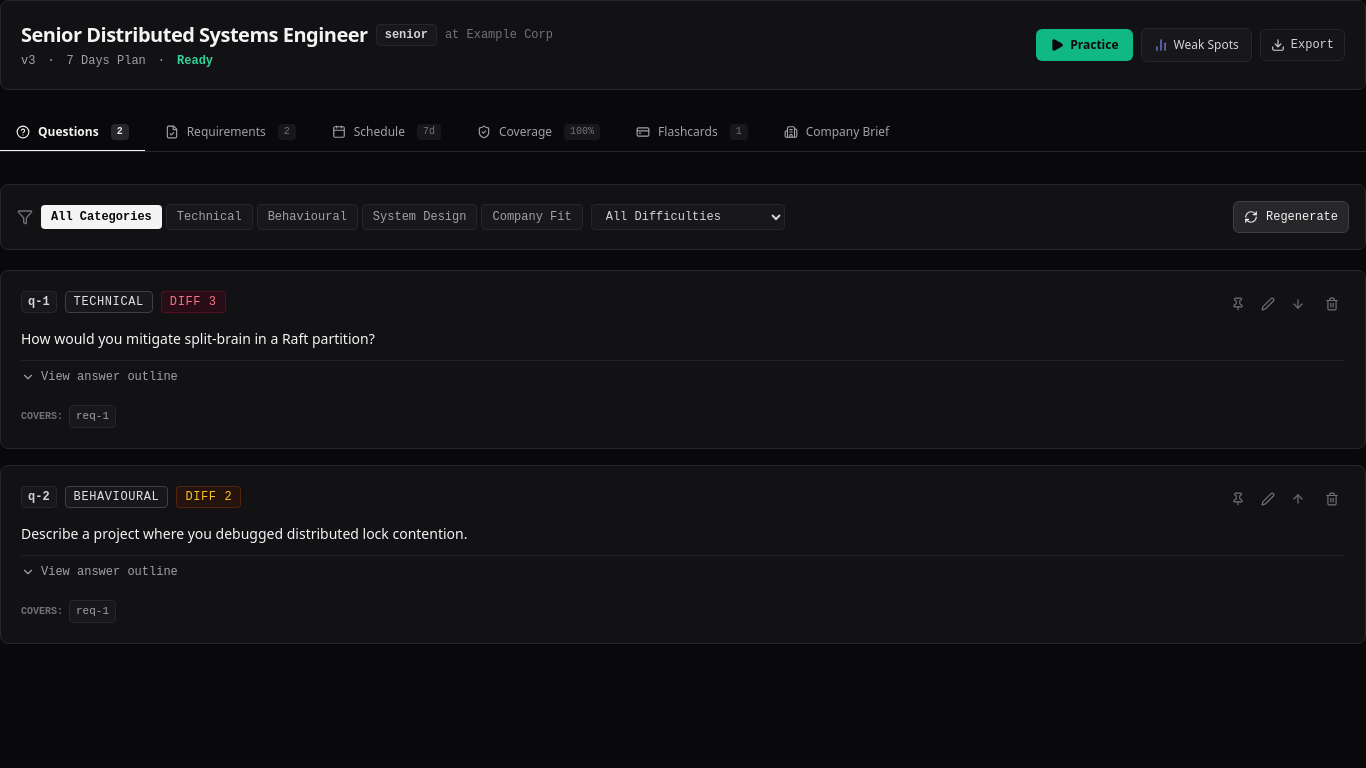
Test case: KitViewer › opens and closes canonical Appendix A export modal
Click the button "Export".
click(1302, 45)  # box [1260, 29, 1345, 61]
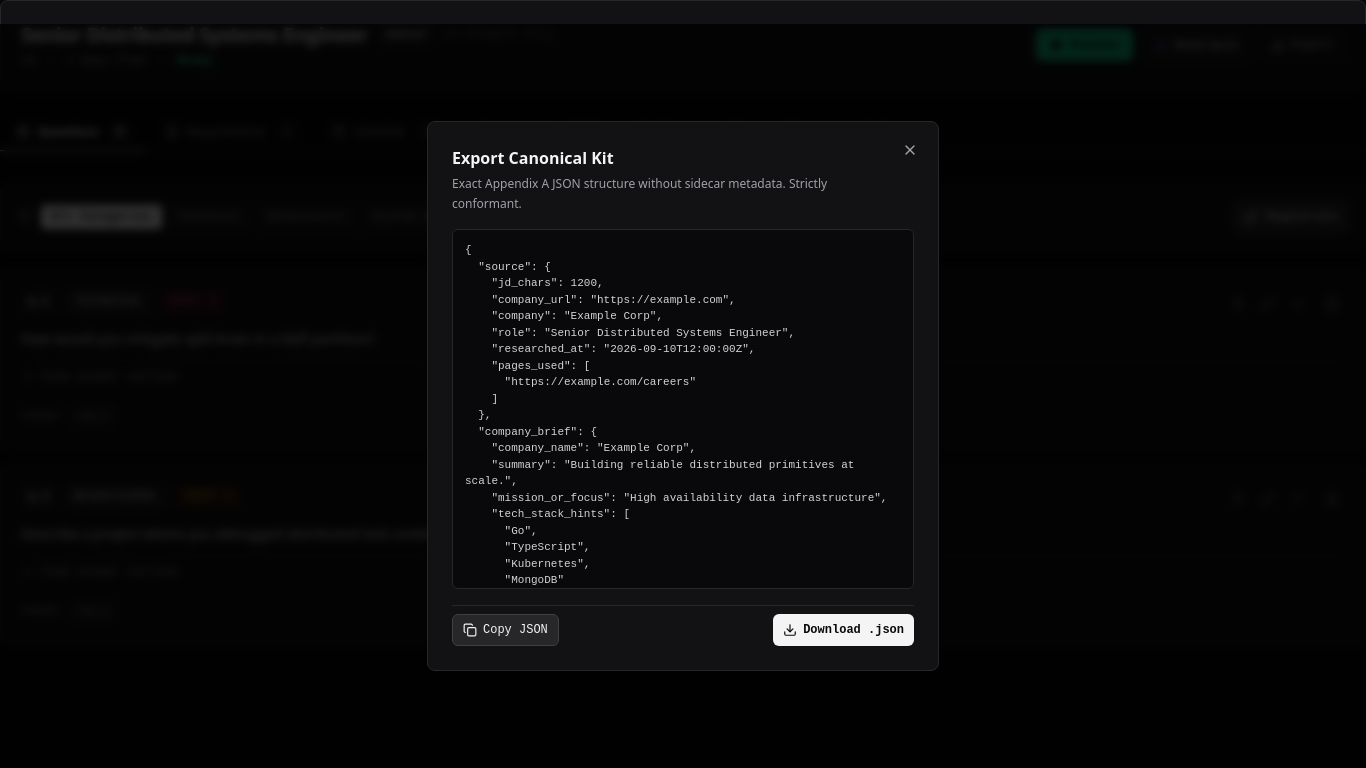
Now the heading "Export Canonical Kit" is shown, box [452, 147, 614, 169]
Click the button named "close dialog".
click(910, 150)  # box [898, 138, 922, 162]
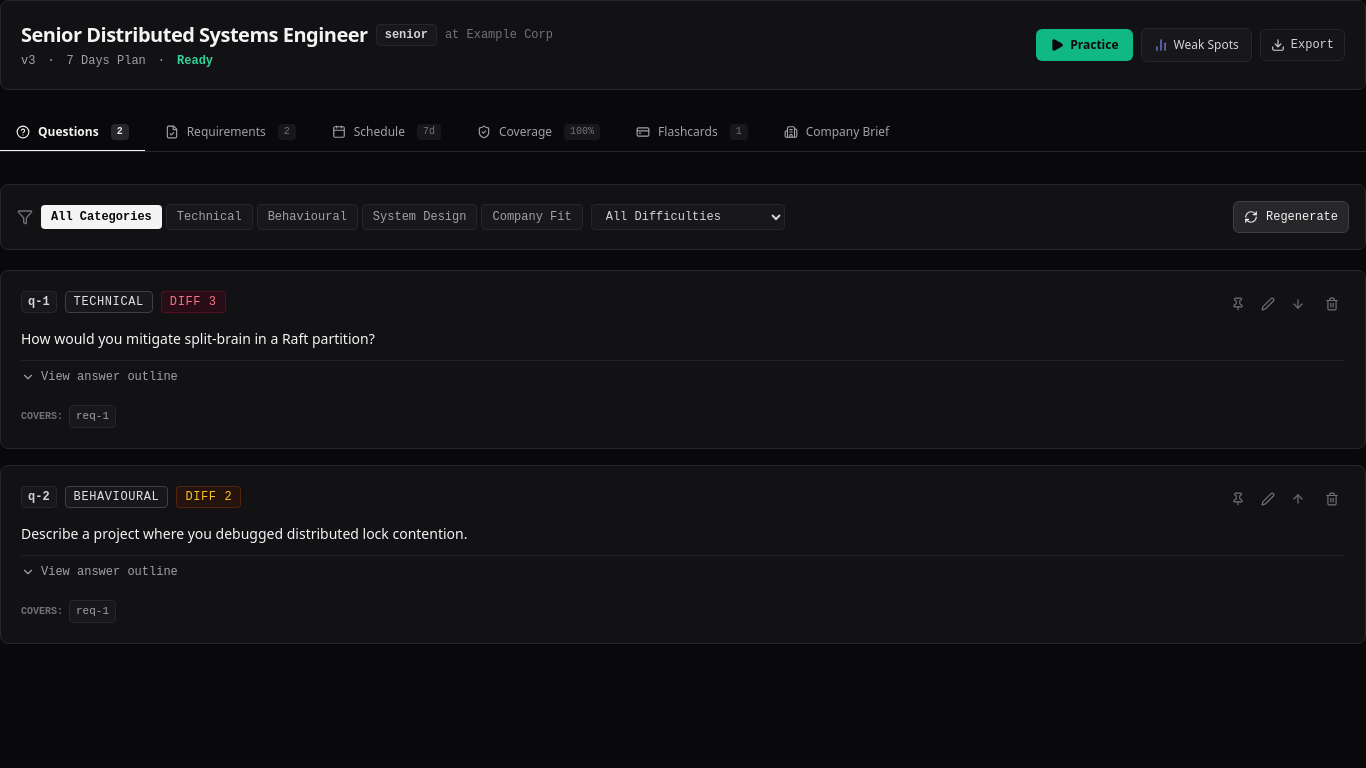
Now the heading "Export Canonical Kit" is gone
